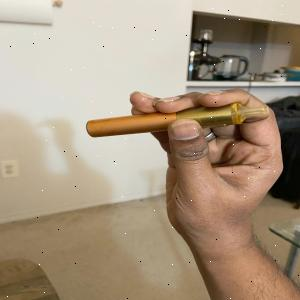Golden-E-Ciggirate: (83, 101, 276, 143)
